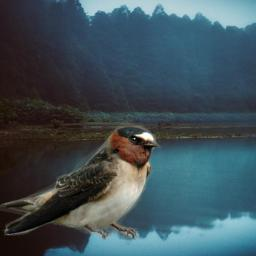Swallow: (0, 121, 164, 242)
